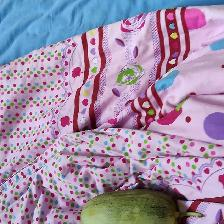gua: (83, 192, 170, 224)
